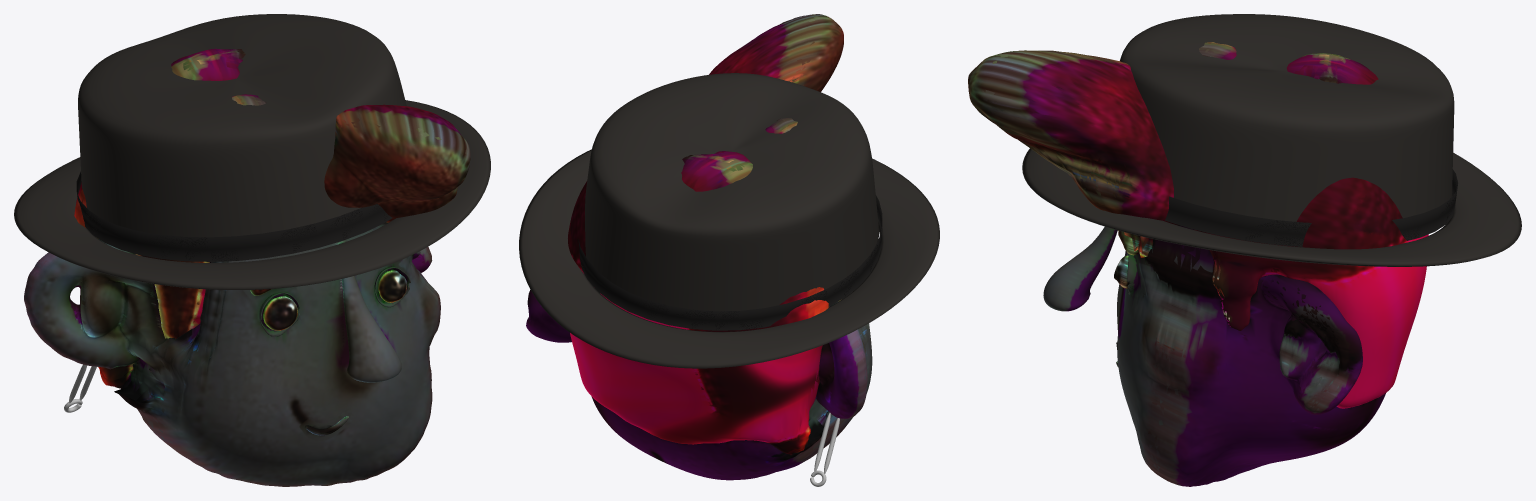
The model's file is face-felt.glb.
The picture shows the model from 3 angles, left to right: view 1: azimuth 30°, elevation 25°; view 2: azimuth 150°, elevation 25°; view 3: azimuth 270°, elevation 25°; orthographic projection. The views are drawn at different scales.
Parts seen in each view (by area): view 1: Hat, Skin, Hair, HatBand, EyeL, EyeR, Pin; view 2: Hat, Hair, Skin, HatBand, Pin; view 3: Hat, Skin, Hair, HatBand.
Part boxes in pixels (x1=…): Hat: x1=14, y1=14, x2=490, y2=289; Skin: x1=24, y1=222, x2=440, y2=486; Hair: x1=74, y1=48, x2=470, y2=388; HatBand: x1=76, y1=171, x2=392, y2=261; EyeL: x1=263, y1=296, x2=297, y2=330; EyeR: x1=378, y1=270, x2=406, y2=302; Pin: x1=64, y1=364, x2=96, y2=412; Hat: x1=519, y1=73, x2=939, y2=368; Hair: x1=568, y1=14, x2=843, y2=454; Skin: x1=526, y1=290, x2=872, y2=480; HatBand: x1=578, y1=195, x2=882, y2=330; Pin: x1=810, y1=413, x2=839, y2=486; Hat: x1=1022, y1=14, x2=1521, y2=266; Skin: x1=1043, y1=225, x2=1385, y2=486; Hair: x1=968, y1=42, x2=1428, y2=408; HatBand: x1=1165, y1=169, x2=1457, y2=247.
Size of the model in its own units: 2.83 by 2.85 by 3.37.
11 materials, 7 textured.
